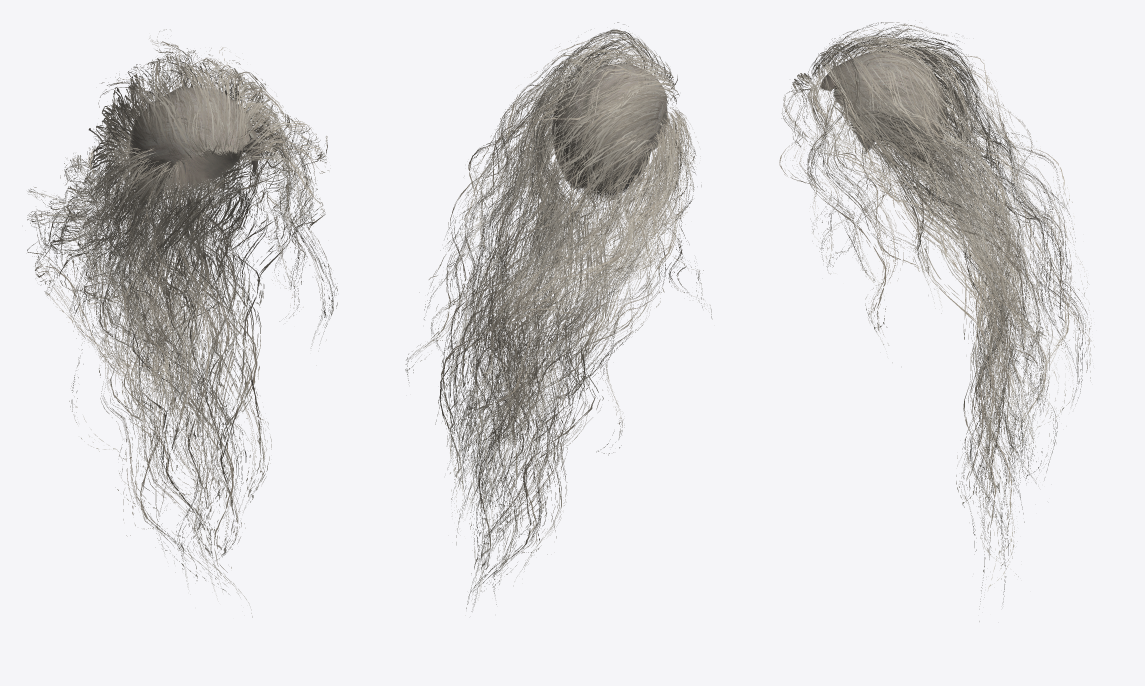
The model's file is dint_hair_33.glb.
3 renders of one model, left to right at view 1: azimuth 30°, elevation 25°; view 2: azimuth 150°, elevation 25°; view 3: azimuth 270°, elevation 25°, orthographic. The views are drawn at different scales.
Parts seen in each view (by area): view 1: T_T, RLR2_RLR2, Hl_Hl, L2_L2, light_light; view 2: T_T, RLR2_RLR2, Hl_Hl, light_light, L2_L2; view 3: T_T, RLR2_RLR2, Hl_Hl, L2_L2, light_light.
Part boxes in pixels (x1=…): T_T: x1=54, y1=41, x2=319, y2=617; RLR2_RLR2: x1=27, y1=90, x2=337, y2=544; Hl_Hl: x1=129, y1=87, x2=259, y2=204; L2_L2: x1=118, y1=163, x2=182, y2=418; light_light: x1=98, y1=29, x2=261, y2=230; T_T: x1=405, y1=22, x2=674, y2=615; RLR2_RLR2: x1=442, y1=39, x2=700, y2=551; Hl_Hl: x1=551, y1=63, x2=667, y2=201; light_light: x1=515, y1=29, x2=701, y2=186; L2_L2: x1=648, y1=107, x2=712, y2=319; T_T: x1=807, y1=26, x2=1094, y2=621; RLR2_RLR2: x1=779, y1=55, x2=1089, y2=554; Hl_Hl: x1=820, y1=52, x2=947, y2=171; L2_L2: x1=819, y1=96, x2=900, y2=267; light_light: x1=807, y1=20, x2=982, y2=87.
Size of the model in its own units: 0.4389 by 0.9586 by 0.5162.
Materials: 5 (5 with a texture image).
